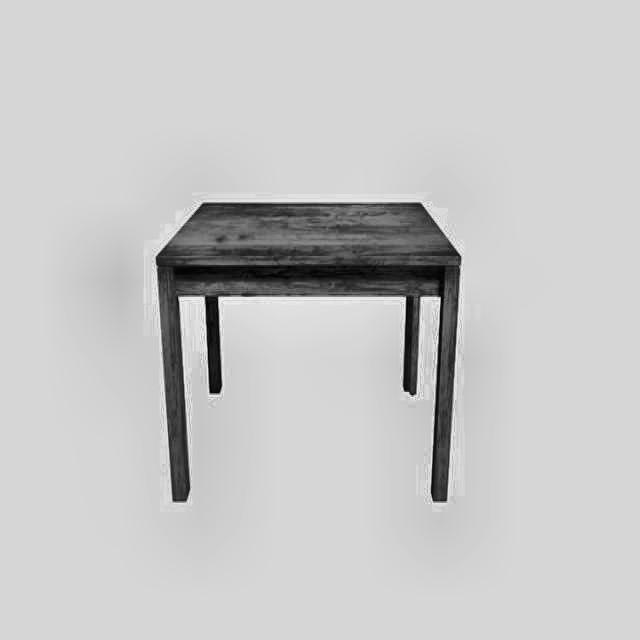mesa: (157, 205, 460, 504)
